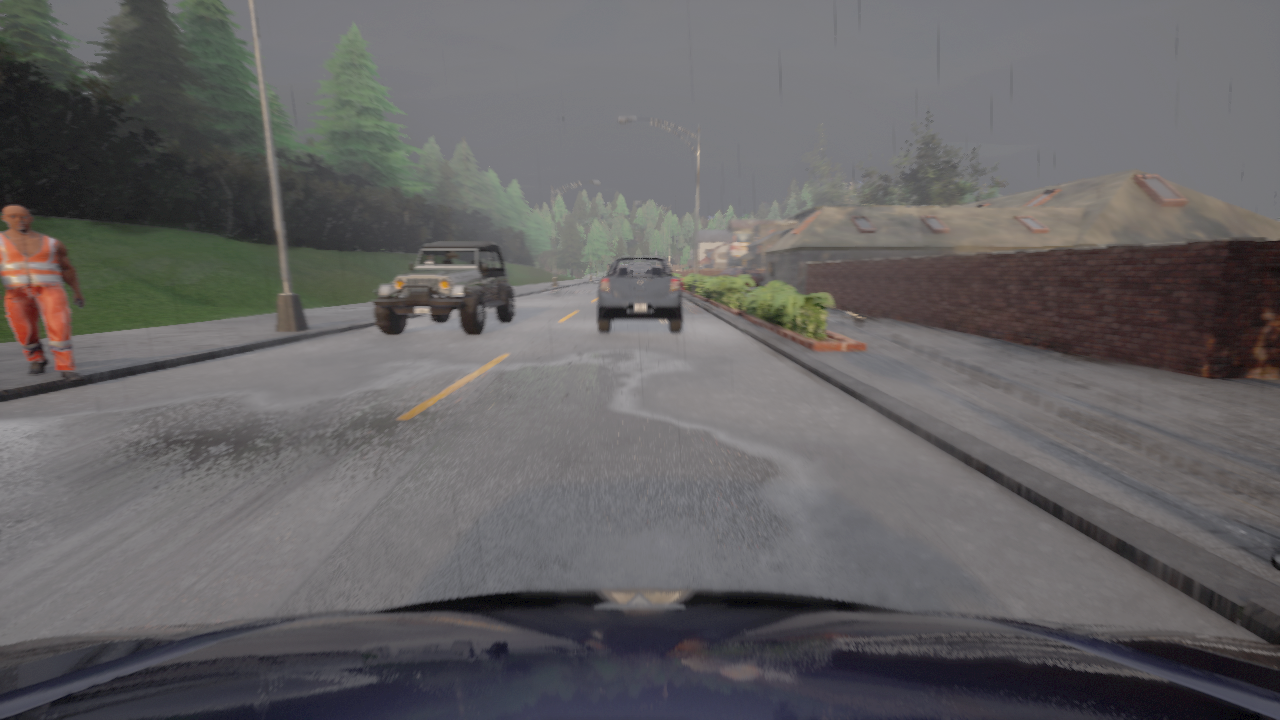cyclist: (0, 588, 1279, 719), (371, 242, 515, 334), (597, 257, 682, 332), (710, 267, 763, 287)
pedestrian: (0, 205, 84, 381)
